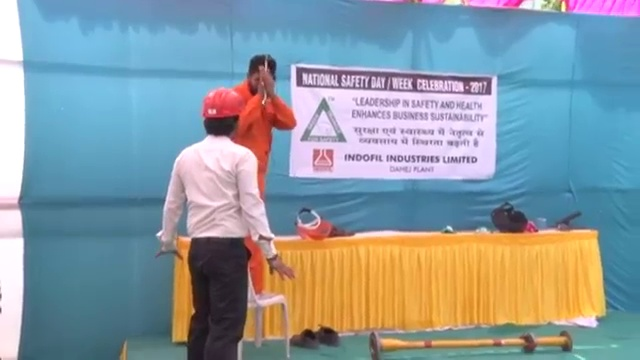helmet: (202, 86, 243, 119)
helmet_off: (250, 52, 277, 94)
helmet_on: (202, 86, 243, 138)
person: (153, 84, 293, 360), (234, 53, 297, 296)
